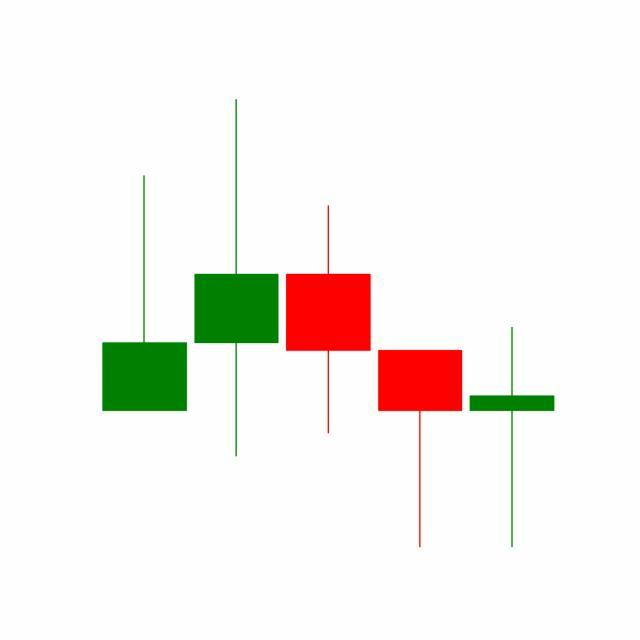Spinning Top: (466, 324, 559, 550)
